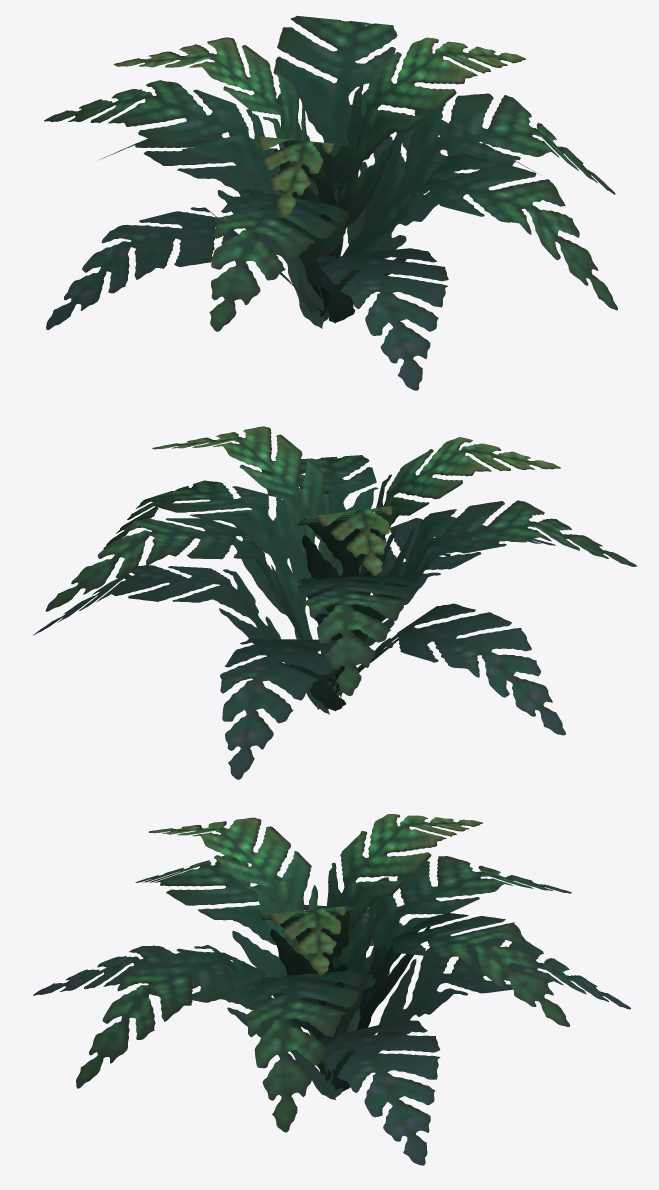
Rendered from Scene_Grass_01_LOD0.FBX.
3 renders of one model, top to bottom at view 1: azimuth 30°, elevation 25°; view 2: azimuth 150°, elevation 25°; view 3: azimuth 270°, elevation 25°, orthographic. The views are drawn at different scales.
Visible parts, largest first — view 1: Scene_Grass_01; view 2: Scene_Grass_01; view 3: Scene_Grass_01.
Part boxes in pixels (box(x1,y1,x2,y2)): Scene_Grass_01: box(44, 15, 617, 390); Scene_Grass_01: box(33, 426, 636, 779); Scene_Grass_01: box(33, 814, 630, 1165).
Bounding box in the file's own units: 85.09 × 40.61 × 93.39.
